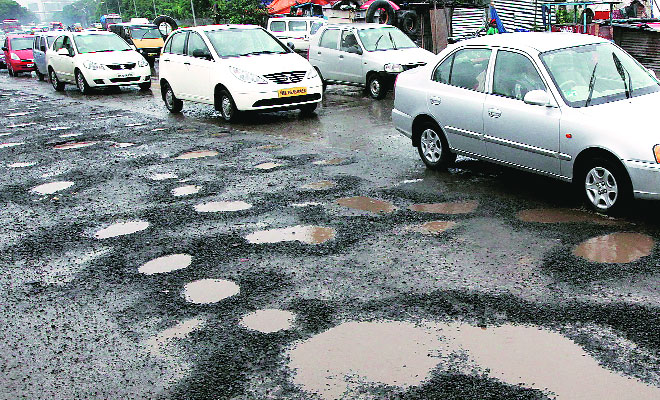pothole: (261, 280, 651, 394), (325, 175, 406, 224), (232, 217, 330, 253), (78, 212, 160, 250), (50, 123, 115, 159), (168, 140, 231, 169), (22, 176, 76, 206)
